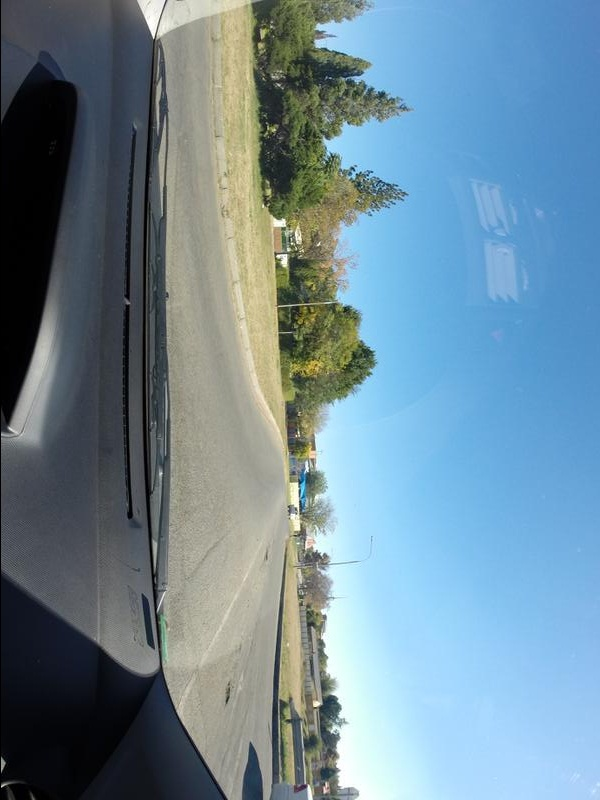pothole: (216, 677, 238, 714), (257, 544, 274, 576)
